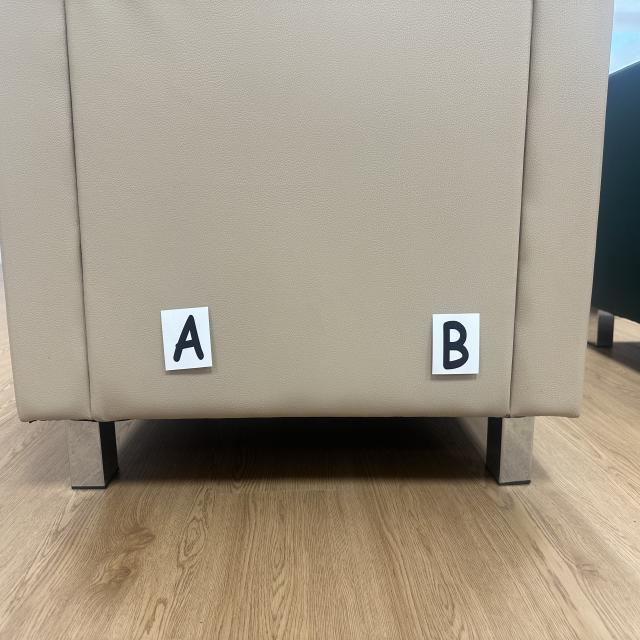A: (174, 315, 204, 362)
B: (442, 322, 469, 370)
